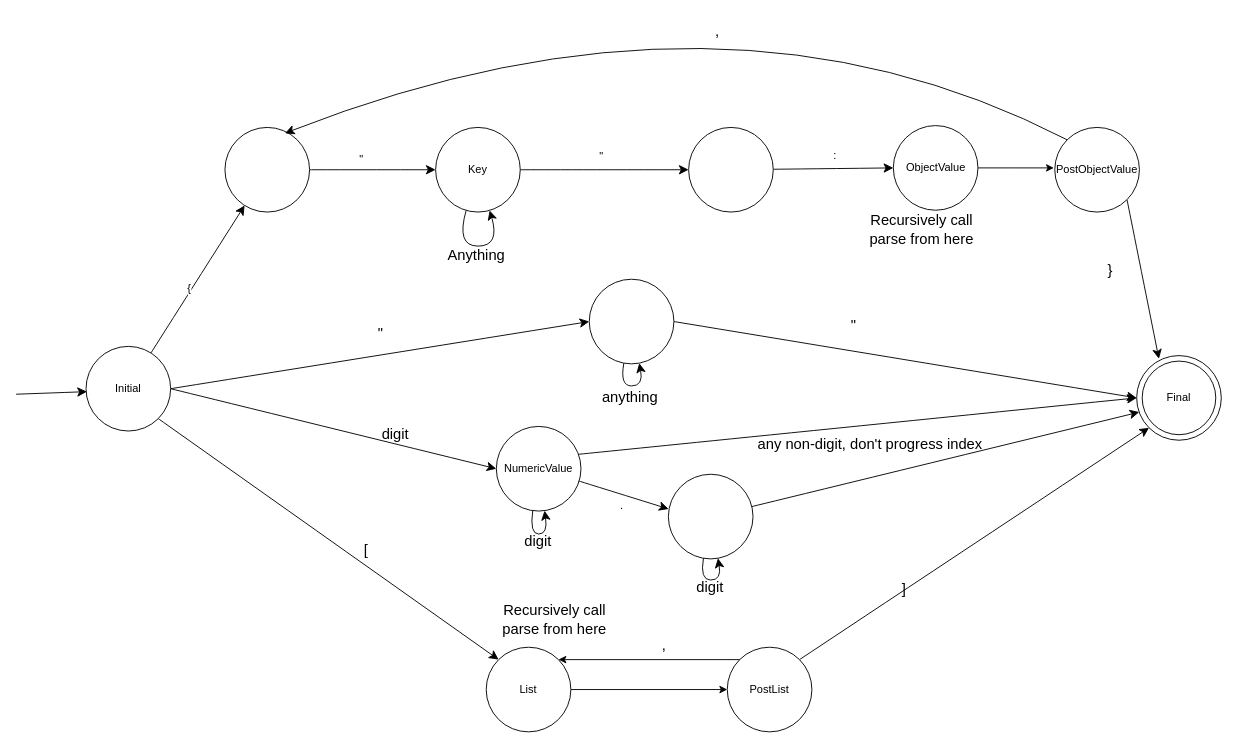
Some shapes in this 1237 by 748 pixel diagram are drawn without their labels. Each missing label, with the box of its shape:
DecimalValue: (667, 473, 753, 559)
Object: (224, 126, 310, 212)
PostKey: (688, 126, 773, 212)
std::stringValue: (588, 278, 674, 364)
